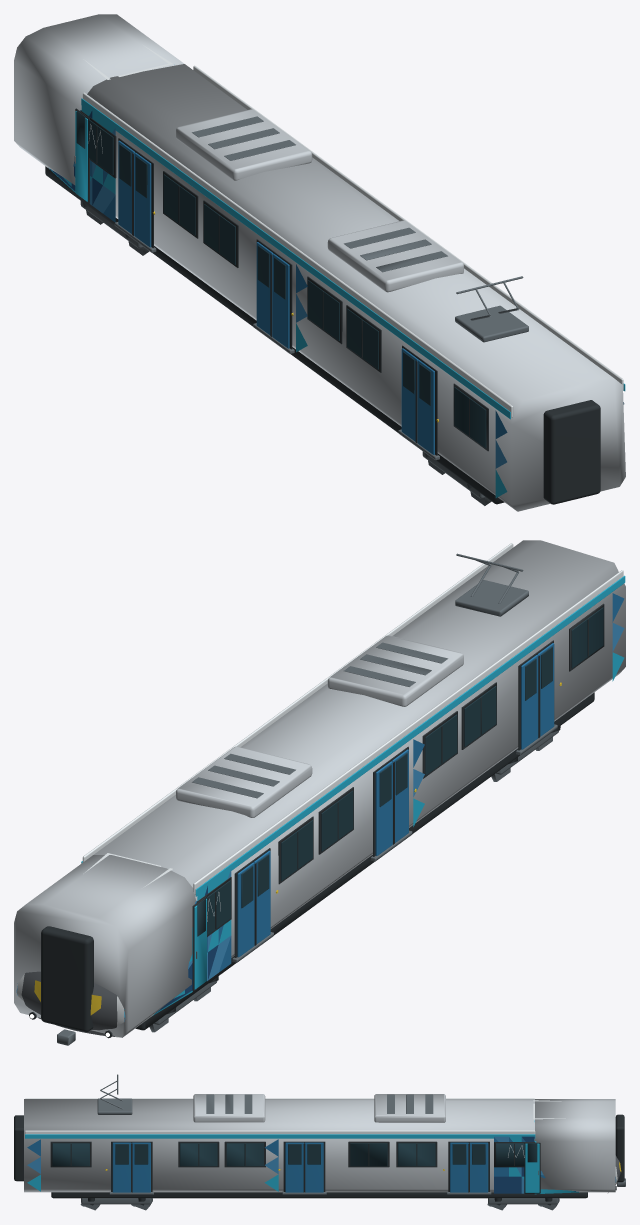
File: traffic-commuter.glb
3 views of the same model, one above another, from view 1: azimuth 30°, elevation 25°; view 2: azimuth 150°, elevation 25°; view 3: azimuth 270°, elevation 25° (orthographic). The views are drawn at different scales.
Visible parts, largest first — view 1: car_brushed_aluminium, trailer_brushed_aluminium, car_rubber, car_bogie_steel, car_window_glass, car_ceramic_white, car_livery_cyan, door_L_0.57_plus_leaf, door_L_7.07_plus_leaf, door_L_-5.62_plus_leaf, nose_livery_cyan, door_L_0.57_minus_leaf (+3 smaller); view 2: car_brushed_aluminium, trailer_brushed_aluminium, car_bogie_steel, car_window_glass, car_rubber, car_ceramic_white, trailer_rubber, car_livery_cyan, door_L_0.57_minus_leaf, door_L_-5.62_minus_leaf, door_L_7.07_minus_leaf, nose_livery_cyan (+5 smaller); view 3: car_brushed_aluminium, trailer_brushed_aluminium, car_rubber, car_window_glass, car_bogie_steel, car_ceramic_white, car_livery_cyan, door_R_0.57_minus_leaf, door_R_0.57_plus_leaf, door_R_7.07_plus_leaf, door_R_-5.62_minus_leaf, door_R_7.07_minus_leaf (+10 smaller).
Part boxes in pixels (box(x1,y1,x2,y2)): car_brushed_aluminium: box(87, 64, 625, 511); trailer_brushed_aluminium: box(14, 14, 184, 185); car_rubber: box(45, 138, 600, 504); car_bogie_steel: box(80, 116, 528, 505); car_window_glass: box(163, 174, 486, 448); car_ceramic_white: box(82, 65, 623, 417); car_livery_cyan: box(81, 98, 625, 497); door_L_0.57_plus_leaf: box(271, 253, 289, 348); door_L_7.07_plus_leaf: box(416, 360, 434, 454); door_L_-5.62_plus_leaf: box(133, 152, 151, 247); nose_livery_cyan: box(49, 103, 115, 201); door_L_0.57_minus_leaf: box(256, 242, 273, 336); car_brushed_aluminium: box(94, 540, 625, 957); trailer_brushed_aluminium: box(14, 855, 195, 1037); car_bogie_steel: box(57, 553, 559, 1045); car_window_glass: box(281, 607, 603, 880); car_rubber: box(135, 603, 604, 1030); car_ceramic_white: box(82, 543, 623, 894); trailer_rubber: box(41, 877, 231, 1032); car_livery_cyan: box(81, 575, 625, 896); door_L_0.57_minus_leaf: box(375, 761, 393, 855); door_L_-5.62_minus_leaf: box(237, 862, 255, 957); door_L_7.07_minus_leaf: box(521, 655, 539, 749); nose_livery_cyan: box(124, 868, 231, 1017); car_brushed_aluminium: box(24, 1094, 534, 1192); trailer_brushed_aluminium: box(535, 1099, 615, 1192); car_rubber: box(14, 1115, 587, 1205); car_window_glass: box(52, 1143, 435, 1166); car_bogie_steel: box(80, 1074, 625, 1210); car_ceramic_white: box(25, 1098, 535, 1134); car_livery_cyan: box(25, 1134, 535, 1191); door_R_0.57_minus_leaf: box(304, 1142, 323, 1192); door_R_0.57_plus_leaf: box(285, 1142, 304, 1192); door_R_7.07_plus_leaf: box(112, 1142, 131, 1192); door_R_-5.62_minus_leaf: box(469, 1142, 488, 1192); door_R_7.07_minus_leaf: box(132, 1142, 150, 1192).
Size of the model in its own units: 3.2 by 4.84 by 23.02.
